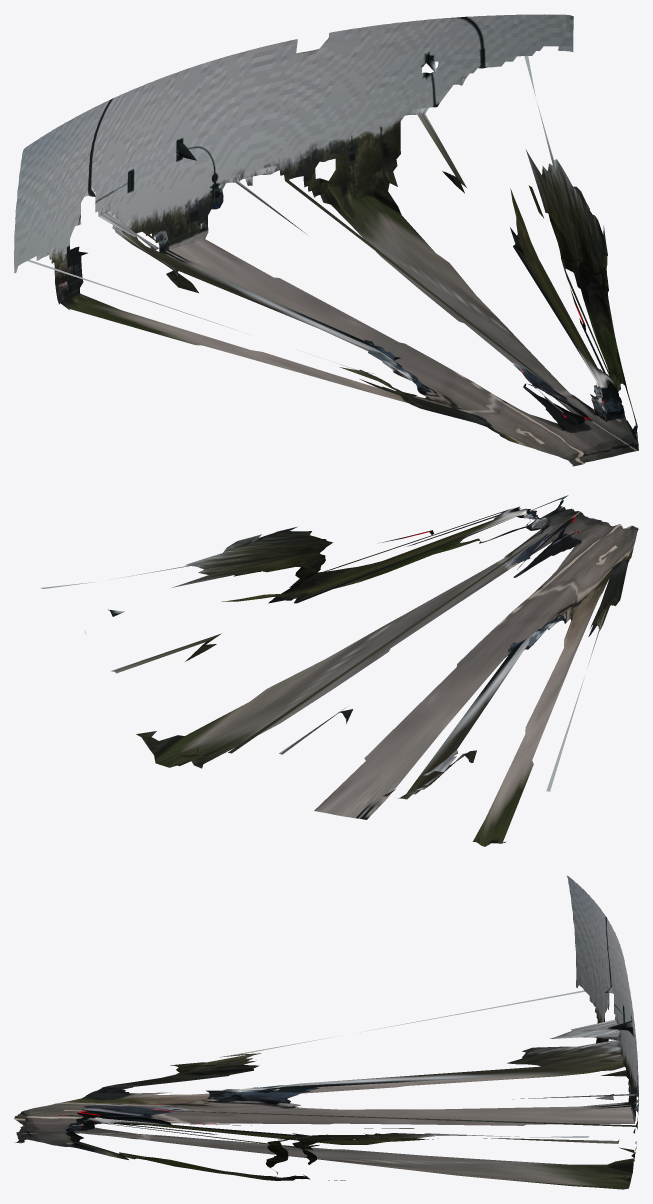
The picture shows the model from 3 angles, top to bottom: view 1: azimuth 30°, elevation 25°; view 2: azimuth 150°, elevation 25°; view 3: azimuth 270°, elevation 25°; orthographic projection. The views are drawn at different scales.
Parts seen in each view (by area): view 1: defaultobject; view 2: defaultobject; view 3: defaultobject.
Boxes of the visible parts, x1,y1,x2,y2 form: defaultobject: [14, 14, 638, 466]; defaultobject: [41, 495, 638, 846]; defaultobject: [14, 875, 638, 1189].
Size of the model in its own units: 41 by 13.75 by 44.6.
1 material, 1 textured.
